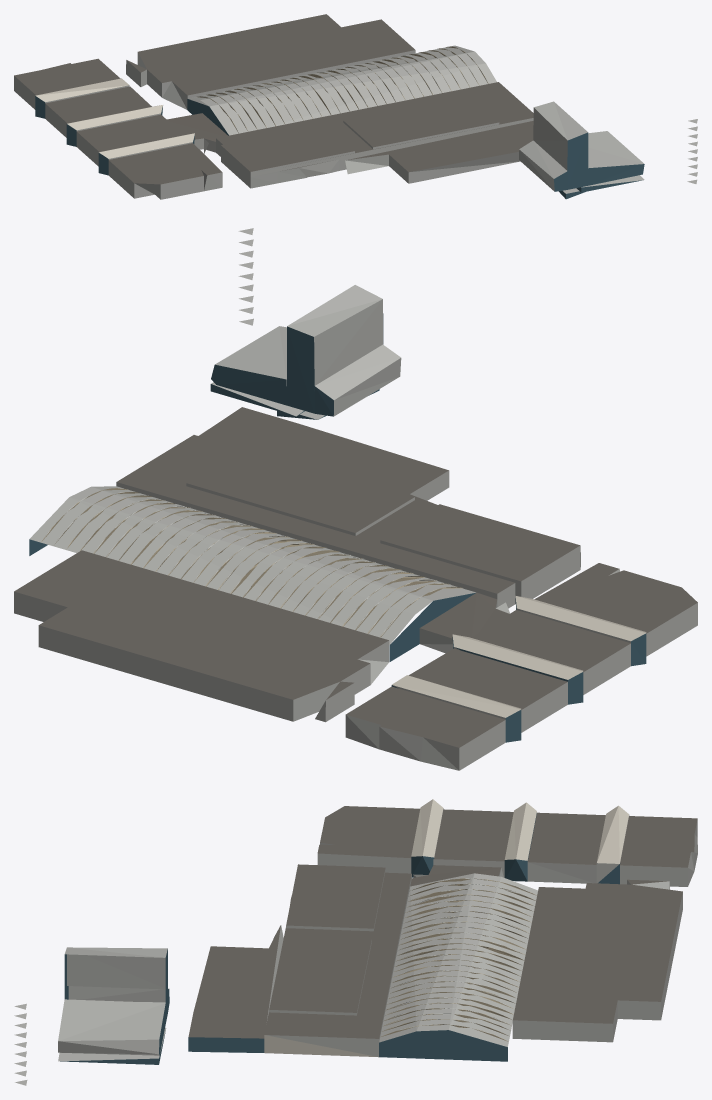
File: rai-amsterdam.lod2.glb
3 views of the same model, one above another, from view 1: azimuth 30°, elevation 25°; view 2: azimuth 150°, elevation 25°; view 3: azimuth 270°, elevation 25° (orthographic). The views are drawn at different scales.
Visible parts, largest first — view 1: lod2; view 2: lod2; view 3: lod2.
Boxes of the visible parts, <box> form: lod2: <box>14,14,697,199</box>; lod2: <box>14,228,697,770</box>; lod2: <box>14,799,697,1085</box>.
Size of the model in its own units: 331 by 47.97 by 357.
